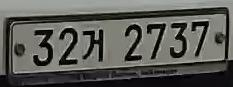2: (120, 21, 146, 64), (56, 26, 80, 67)
3: (29, 27, 56, 68), (167, 20, 189, 60)
7: (145, 20, 168, 61), (189, 19, 211, 60)
거: (79, 27, 107, 64)
